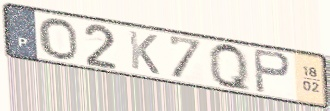2: (82, 22, 120, 73)
7: (168, 34, 205, 81)
K: (126, 29, 162, 77)
O: (36, 17, 81, 62)
P: (251, 47, 293, 96)
Q: (206, 41, 254, 96)
